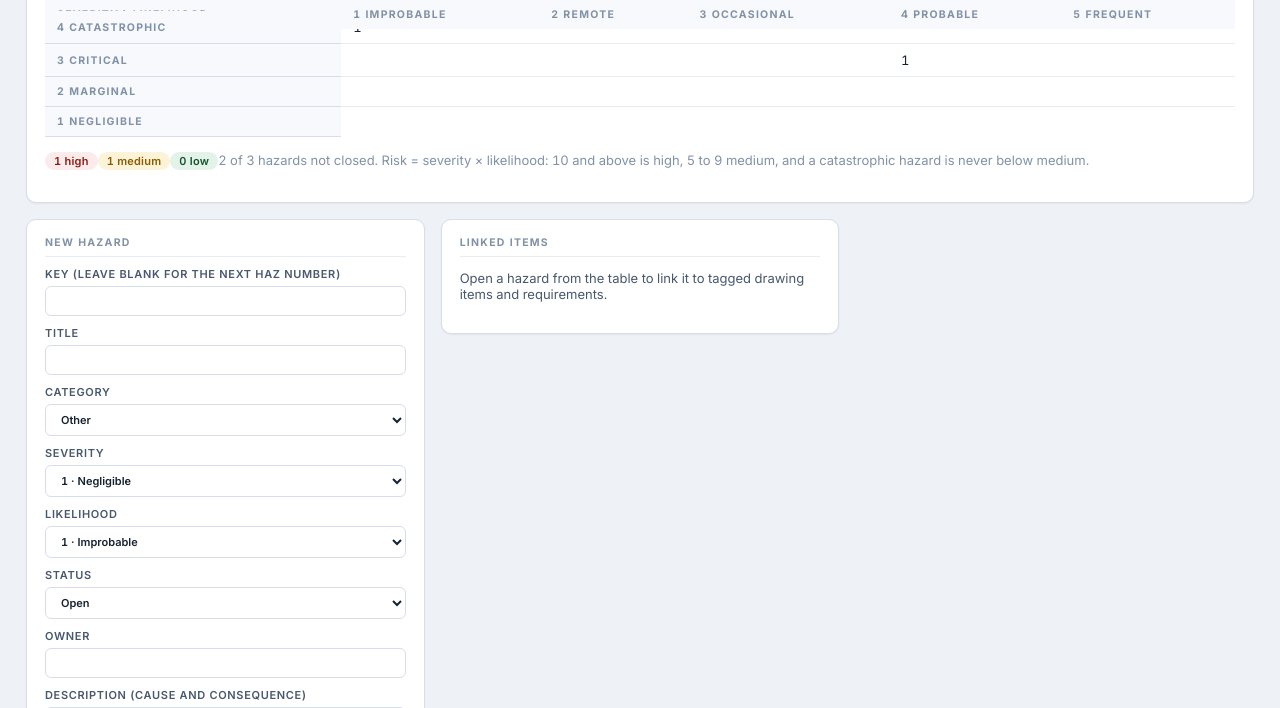
Scenario: SafetyPage › creates a hazard from the editor with a generated key
(page scrolled)
Type " Ignition of vented hydrogen " into the field labelled "Title". click: (225, 360)
box: [45, 345, 406, 375]
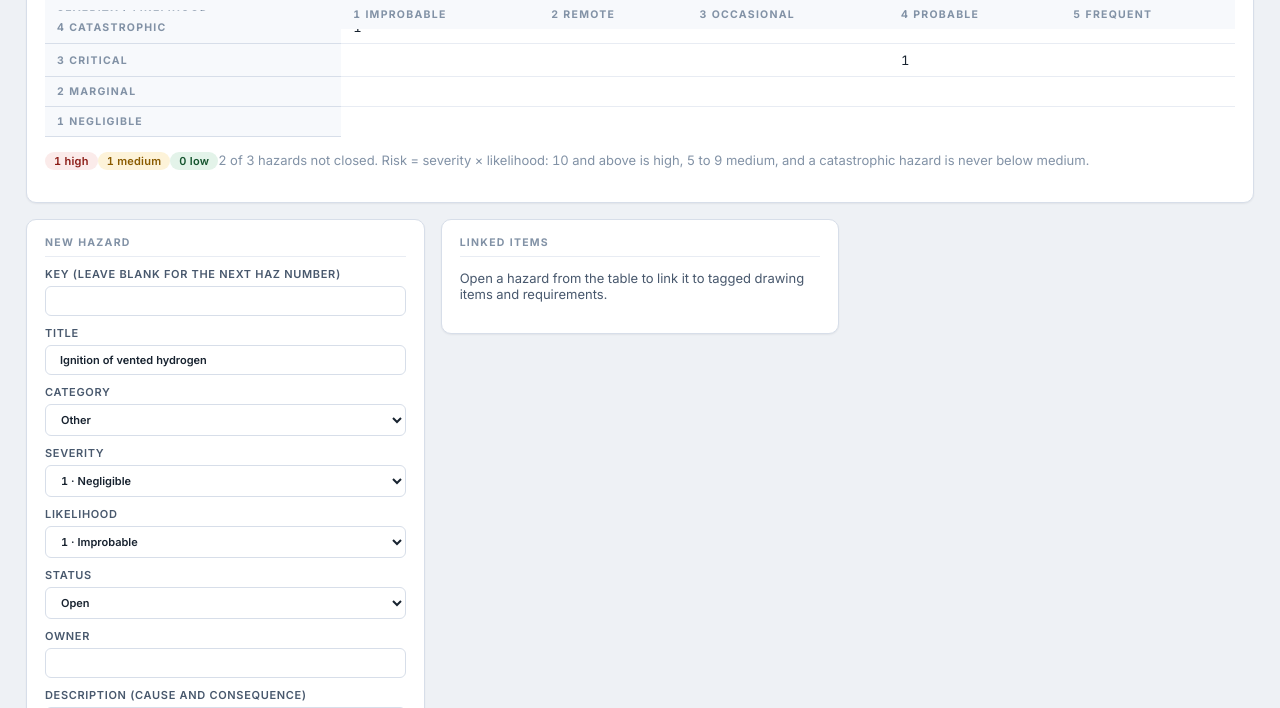
Select "Ignition" in the dropdown labelled "Category". click: (225, 420)
box: [45, 404, 406, 436]
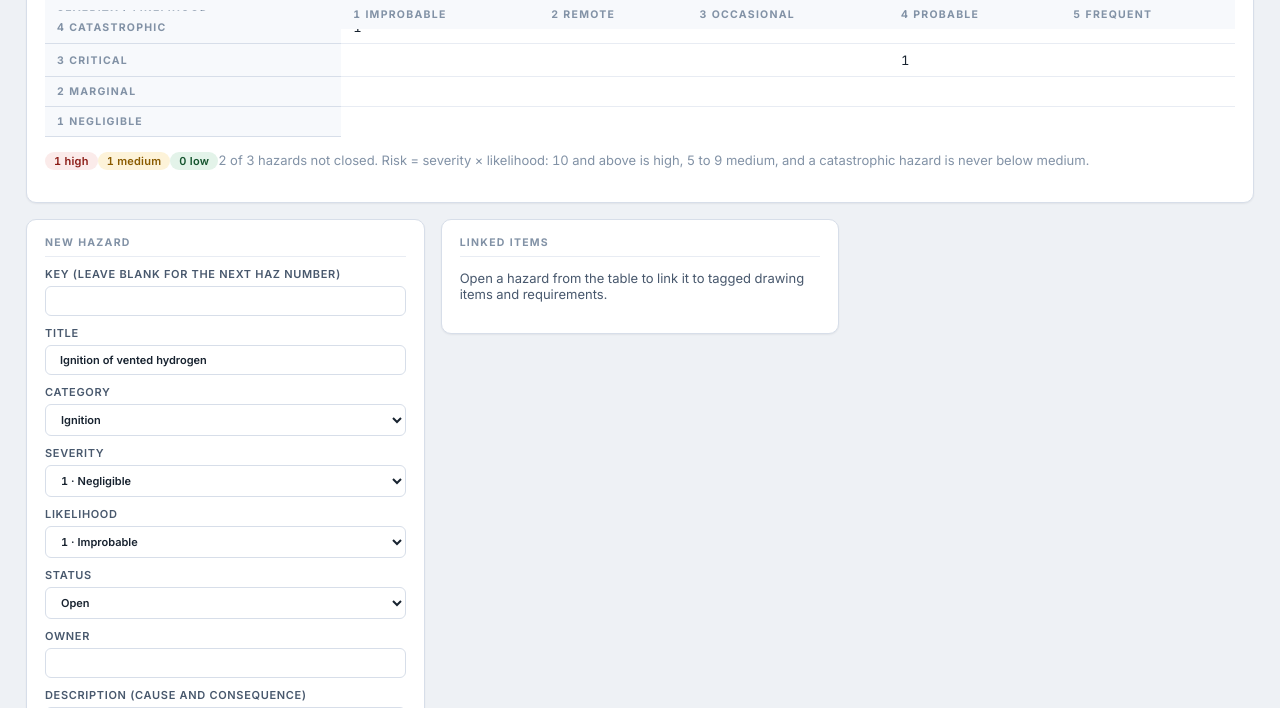
Select "4 · Catastrophic" in the dropdown labelled "Severity". click: (225, 481)
box: [45, 465, 406, 497]
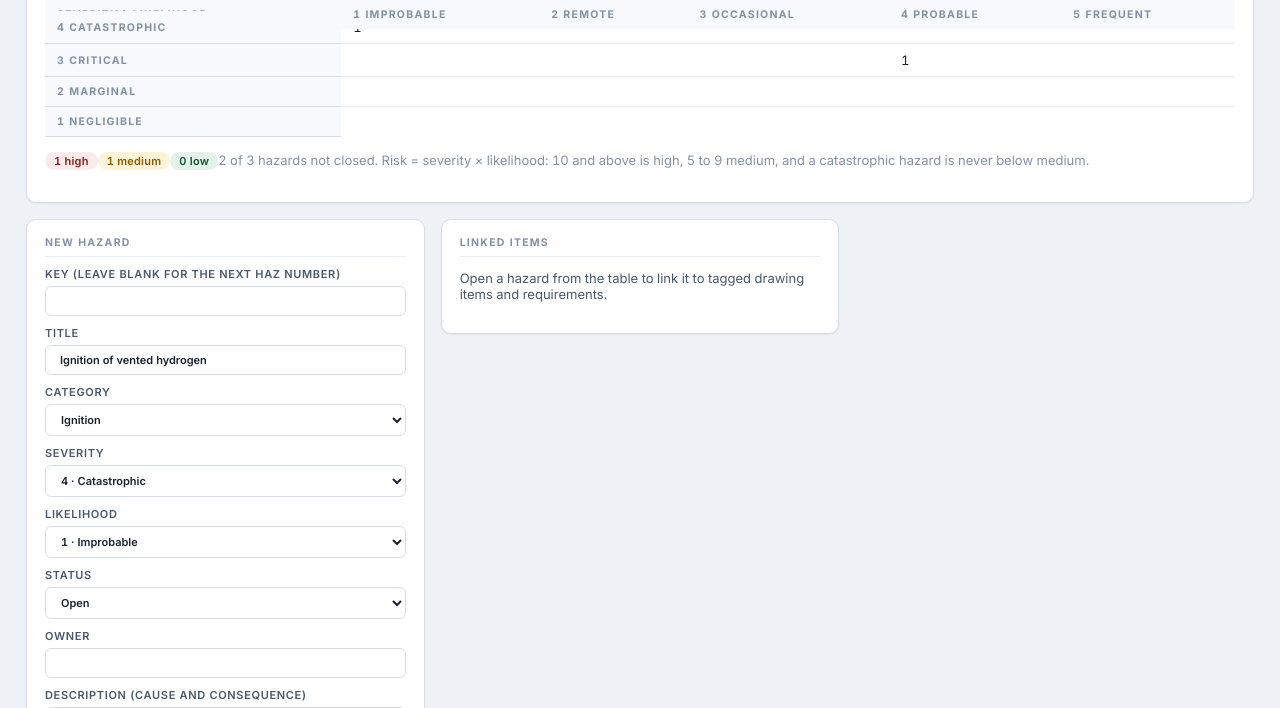
Select "2 · Remote" in the dropdown labelled "Likelihood". click: (225, 542)
box: [45, 526, 406, 558]
(page scrolled)
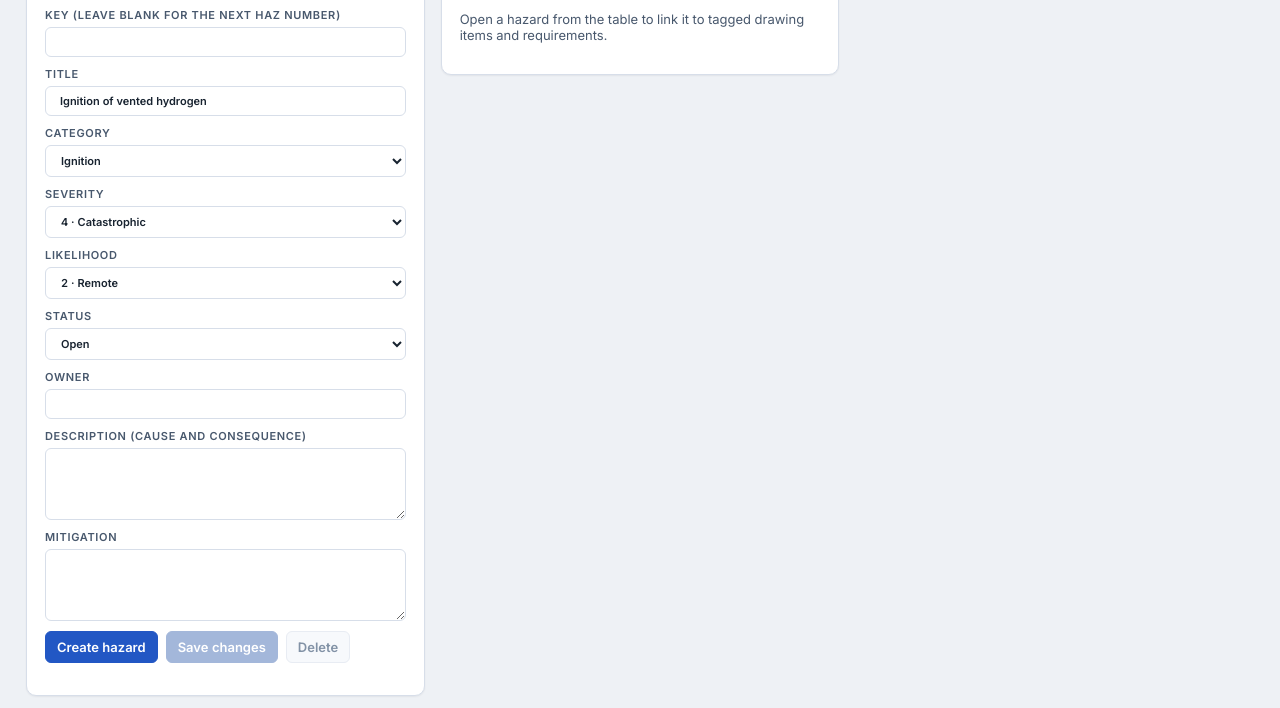
Click the button "Create hazard". click: (101, 647)
box: [45, 631, 158, 663]
(page scrolled)
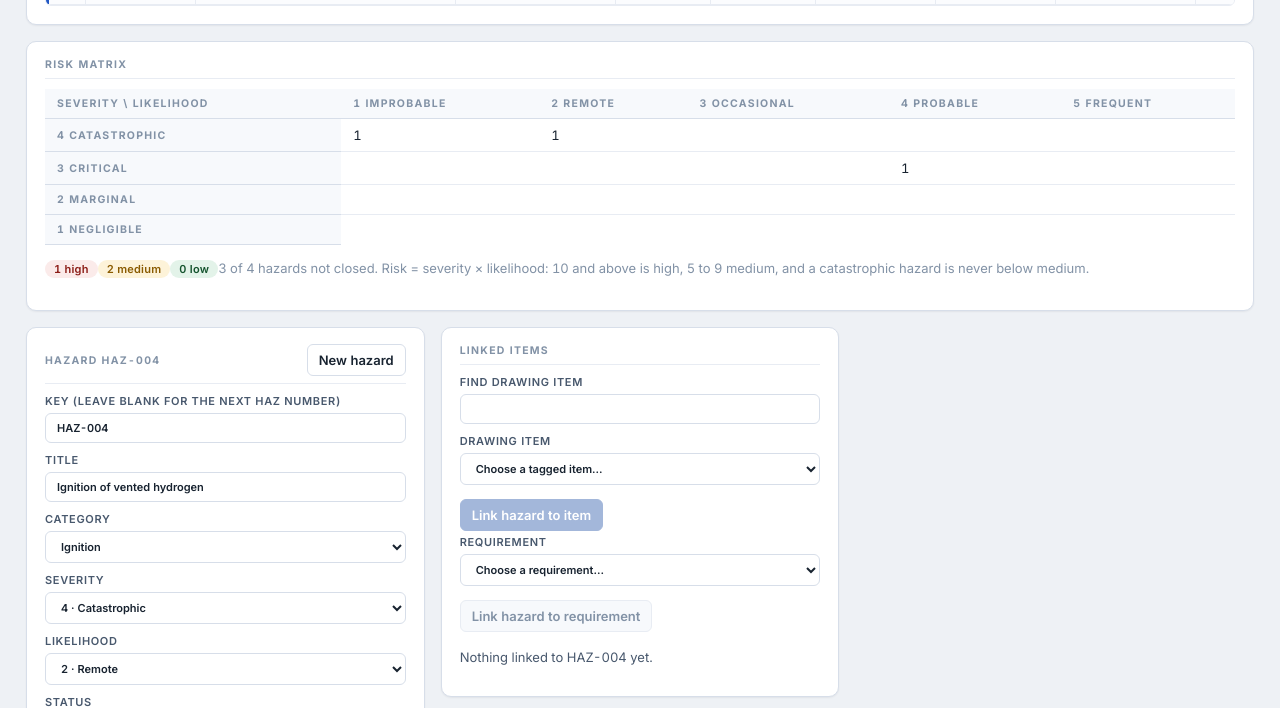
Check: the heading "Hazard HAZ-004" is shown, box [45, 354, 160, 366]
